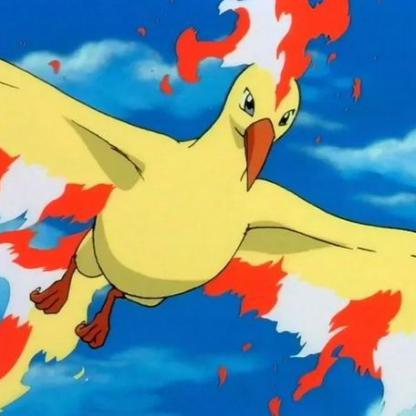Moltres: (1, 1, 416, 415)
